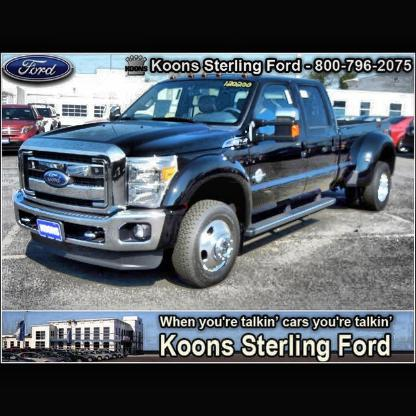Ford F-450 Super Duty Crew Cab 2012: (14, 73, 396, 286)
